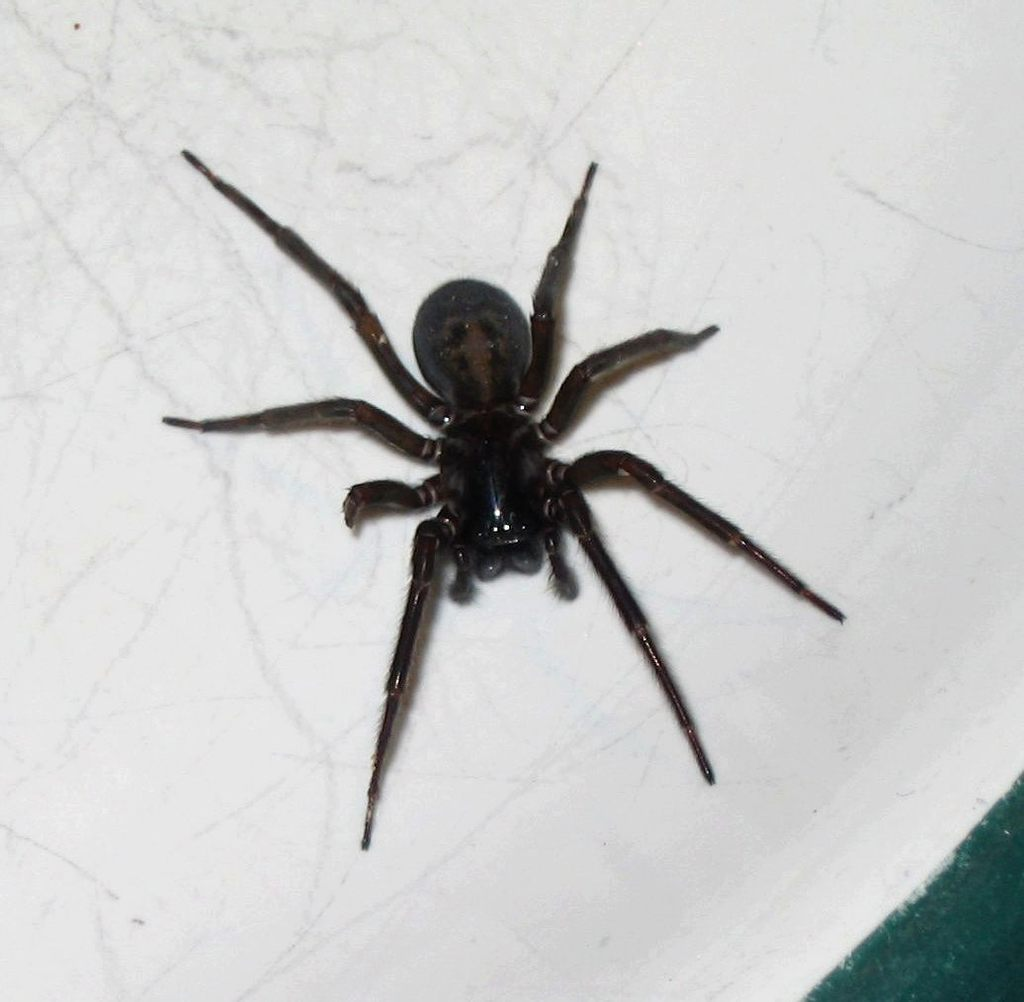person: (190, 319, 724, 609)
